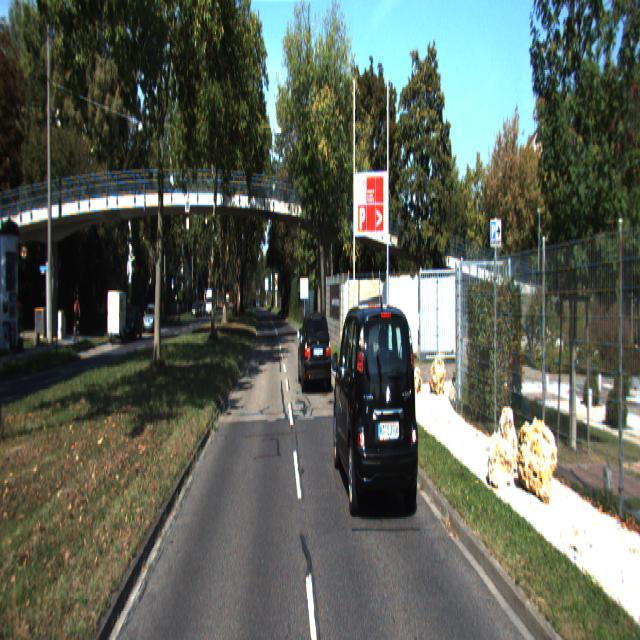Car: (330, 290, 422, 517), (298, 310, 332, 393)
